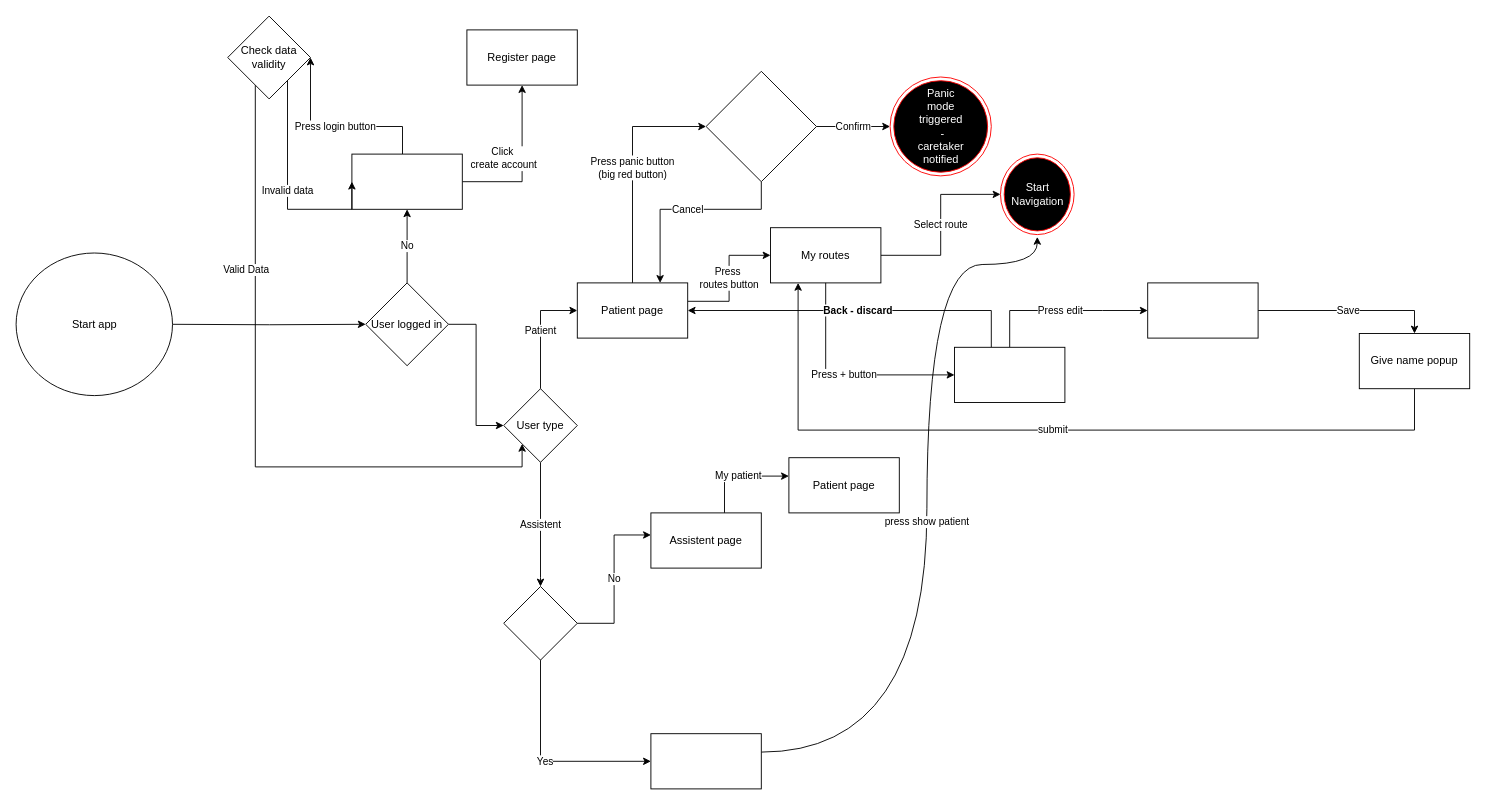
This 1486x805 diagram has some shape labels left out. Each missing label, with the centre of its shape:
"Active alert" belongs at pixel 540 623.
"Confirmation popup" belongs at pixel 760 126.
"Edit route page" belongs at pixel 1009 374.
"Editing mode" belongs at pixel 1202 310.
"Login page" belongs at pixel 406 181.
"Panic mode" belongs at pixel 705 761.
